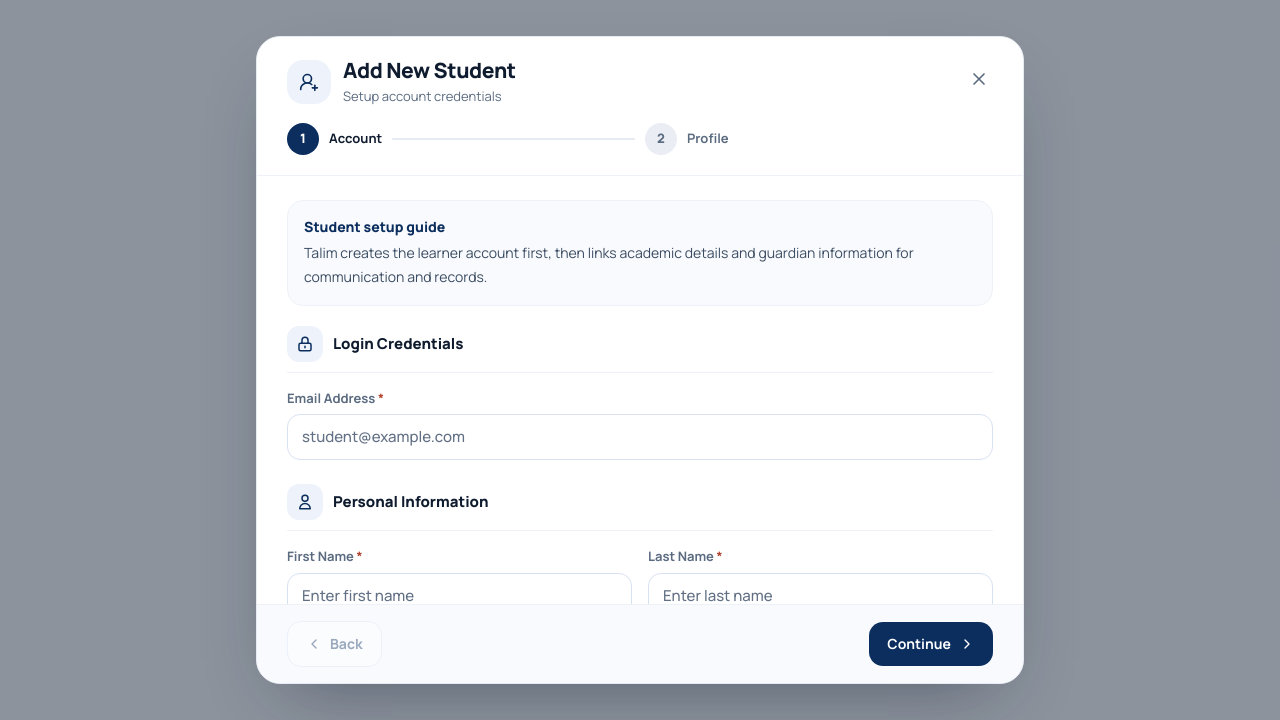
Test: AddStudentModal › does not advance with a bad step and shows the field errors
Type "not-an-email" into the field labelled "Email Address *" at (640, 437), box [287, 414, 993, 460]
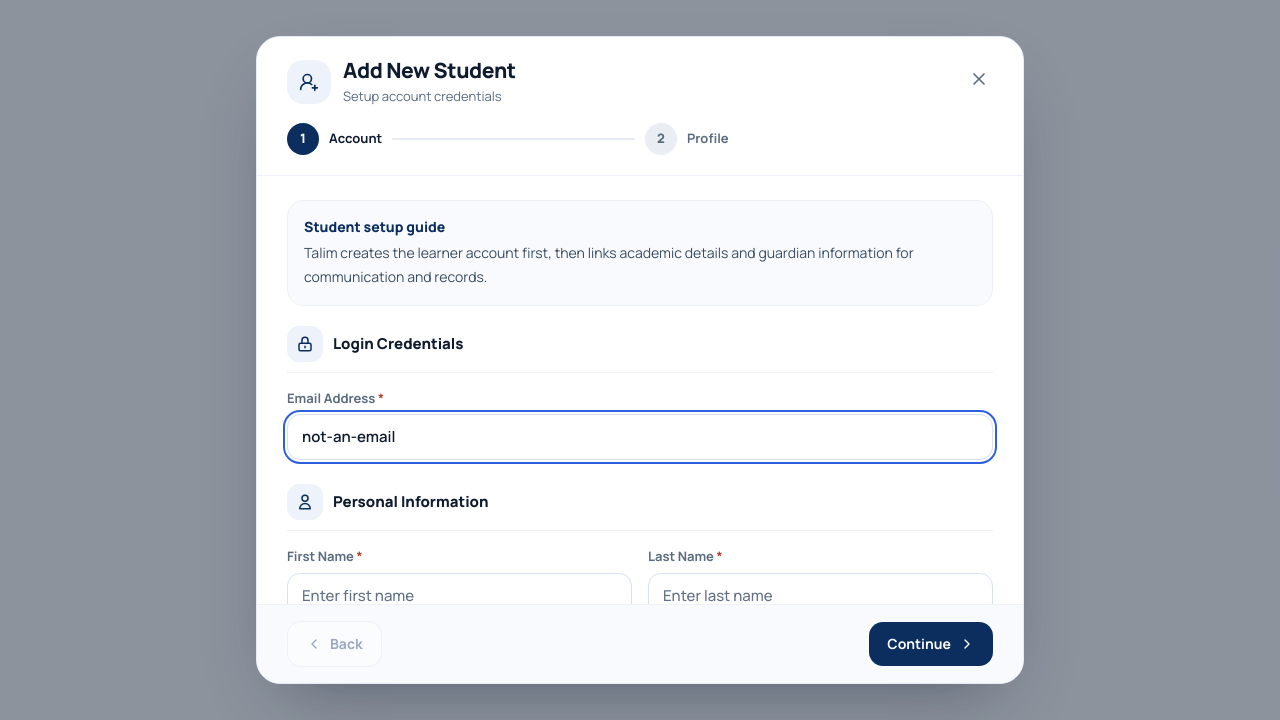
Click the button "Continue" at (931, 644), box [869, 622, 993, 666]
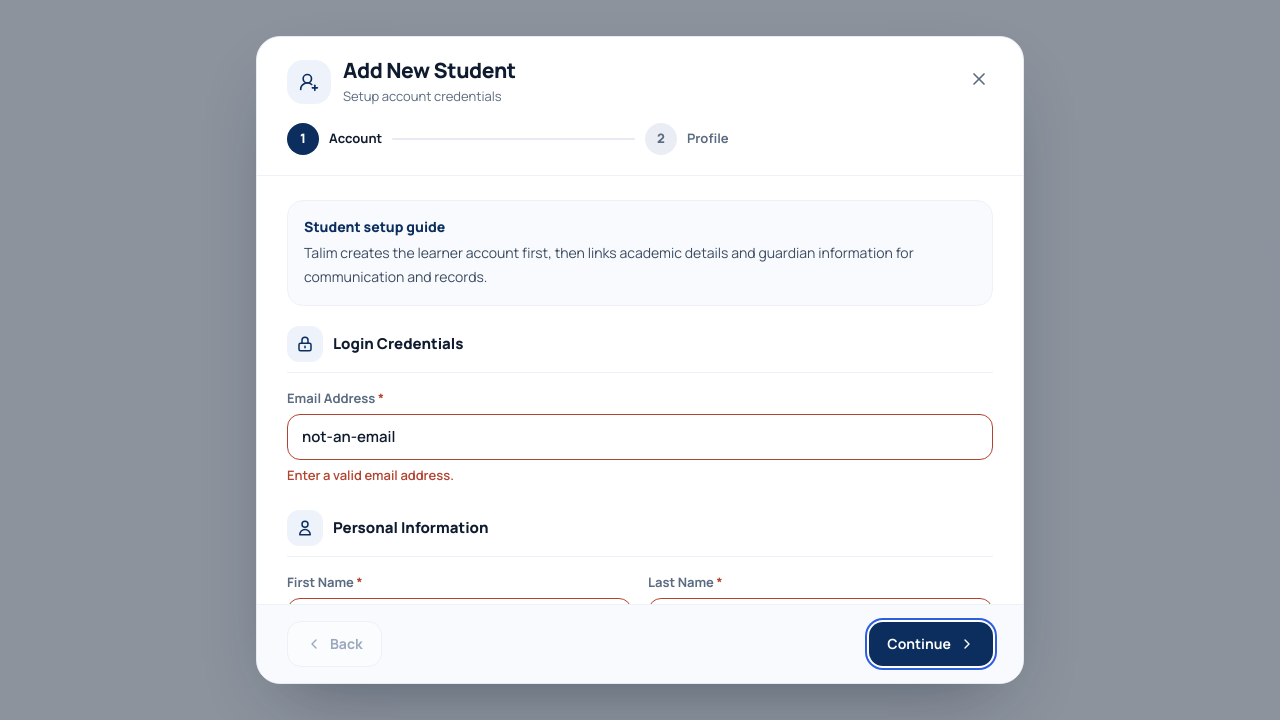
Now the text "Enter a valid email address." is shown, box [287, 466, 454, 484]
